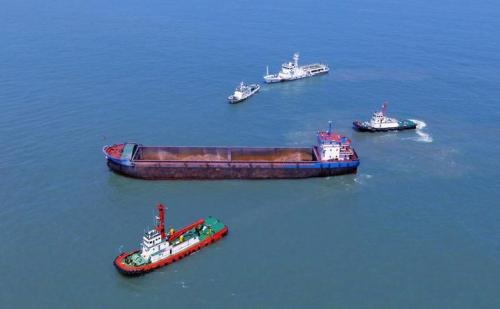Cargoship: (96, 119, 362, 186)
otherboat: (113, 204, 228, 277), (351, 102, 427, 135), (262, 53, 329, 87), (224, 81, 260, 108)
